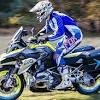helmet: (20, 0, 59, 27)
